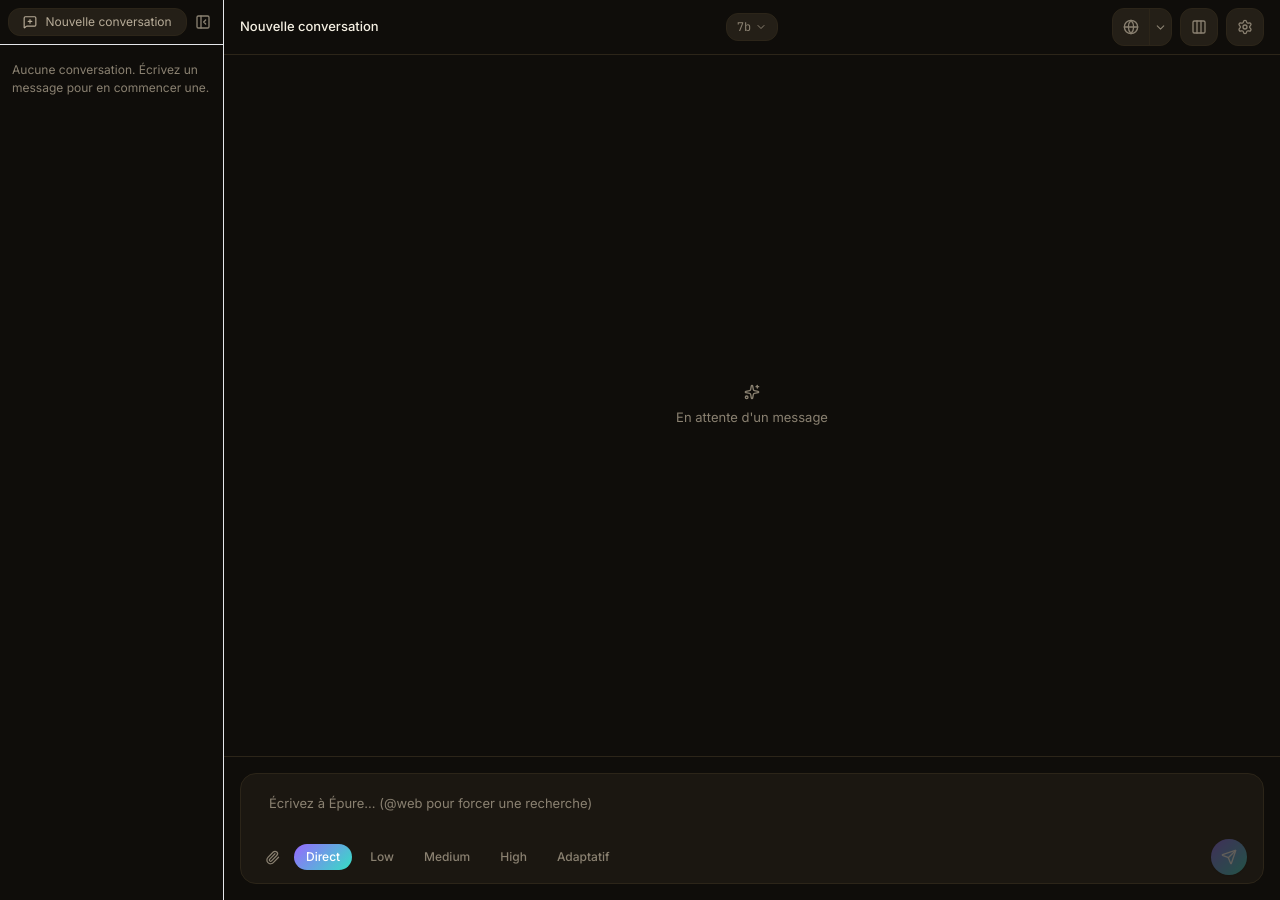
Test: Chat — état de l’analyse vision › un échec SURVIT au done : la réponse a été construite sans l’image
Type "que vaut AB/AC ?" into the text box with placeholder "Écrivez à Épure... (@web pour forcer une recherche)" at (752, 806), box [257,786,1247,826]
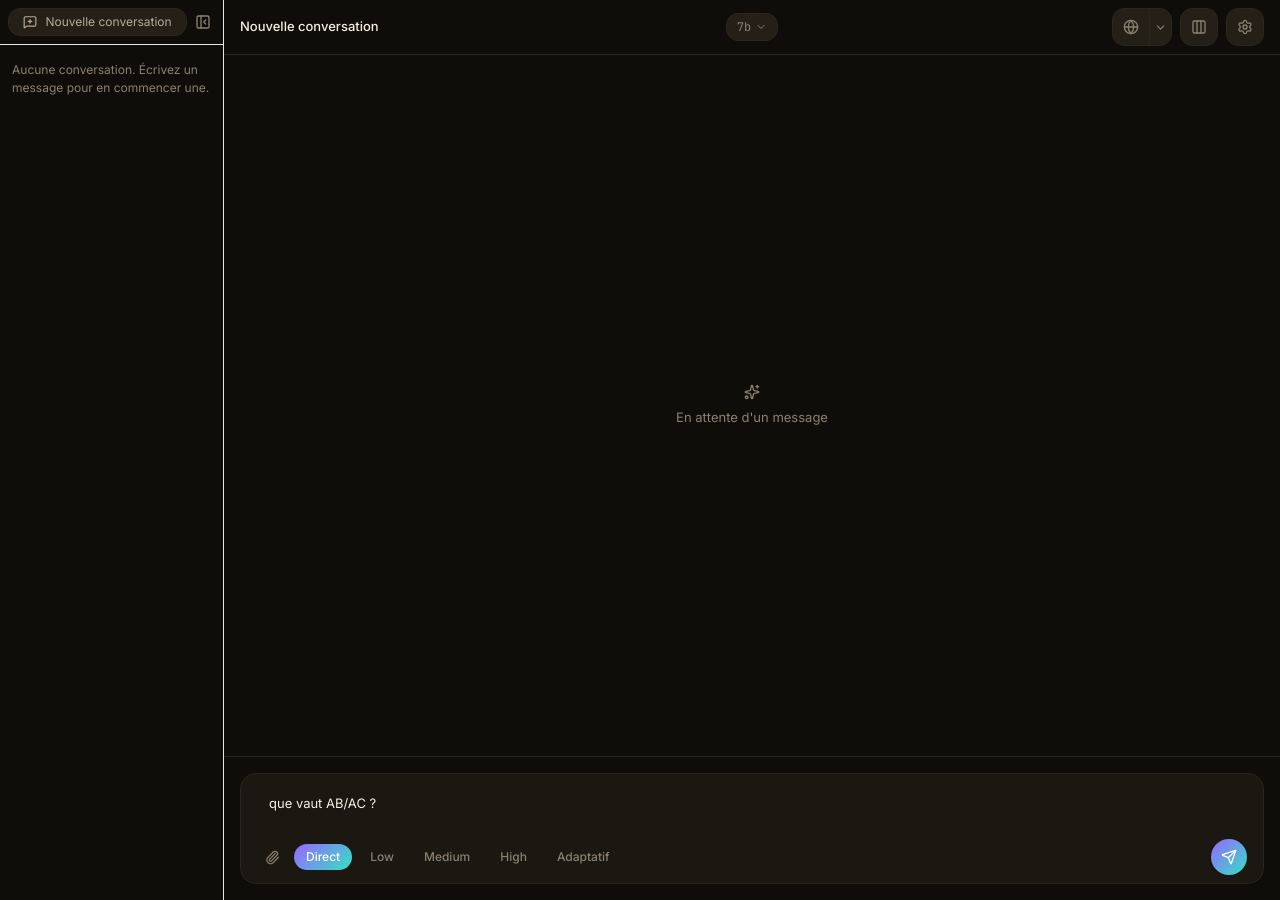
Press Enter in the text box with placeholder "Écrivez à Épure... (@web pour forcer une recherche)", box [257,786,1247,826]
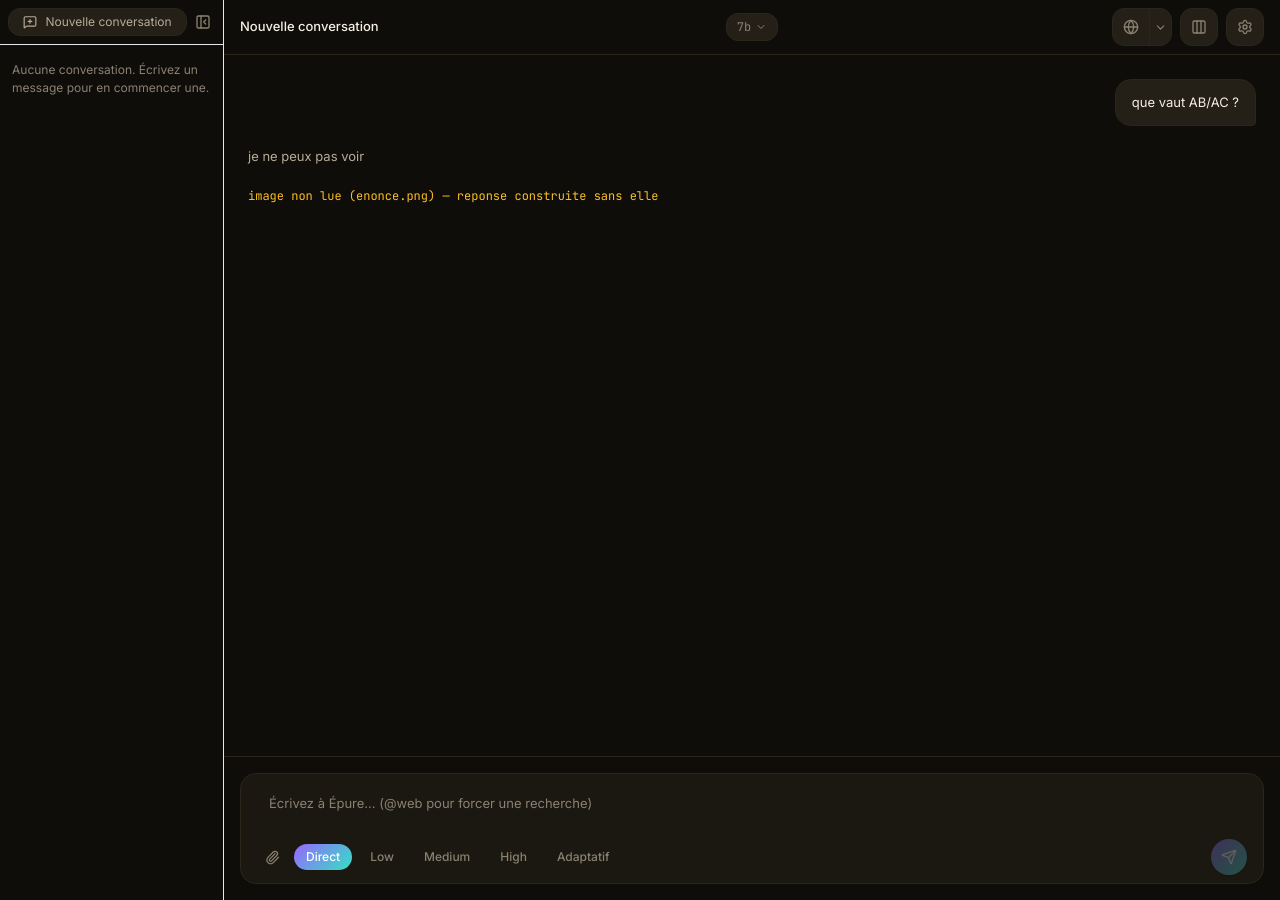
Expected: the text "image non lue (enonce.png) — reponse construite sans elle" is shown, [248,187,658,205]
